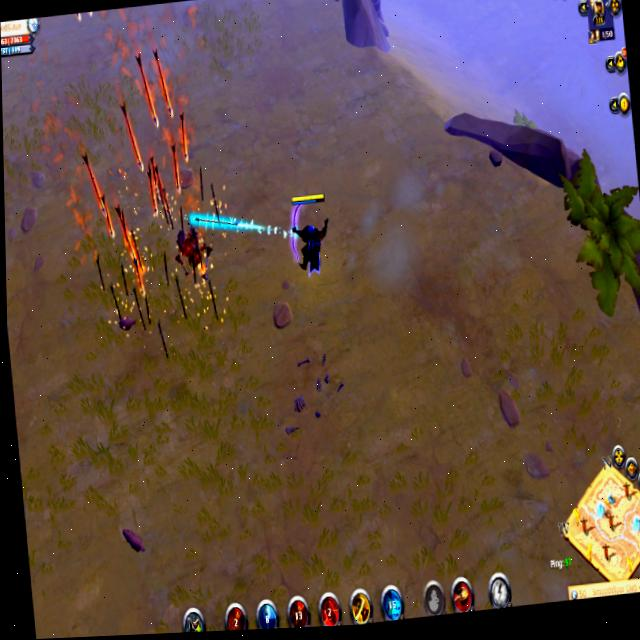red: (281, 185, 339, 287)
